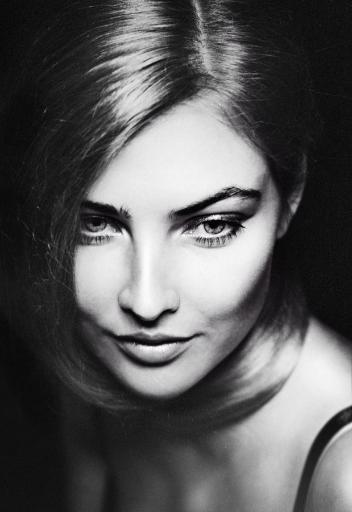left_eye: (175, 212, 249, 250)
left_lip_corner: (186, 327, 212, 351)
right_eye: (81, 213, 125, 243)
right_lip_corner: (100, 325, 121, 350)
